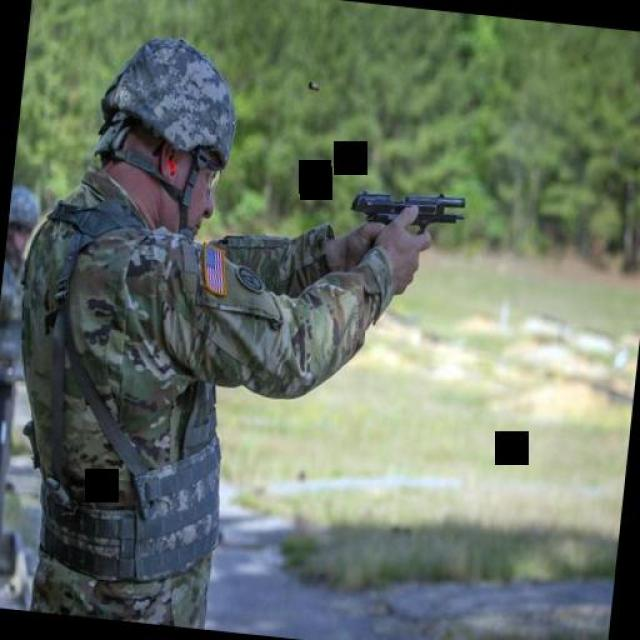gun: (344, 172, 468, 250)
